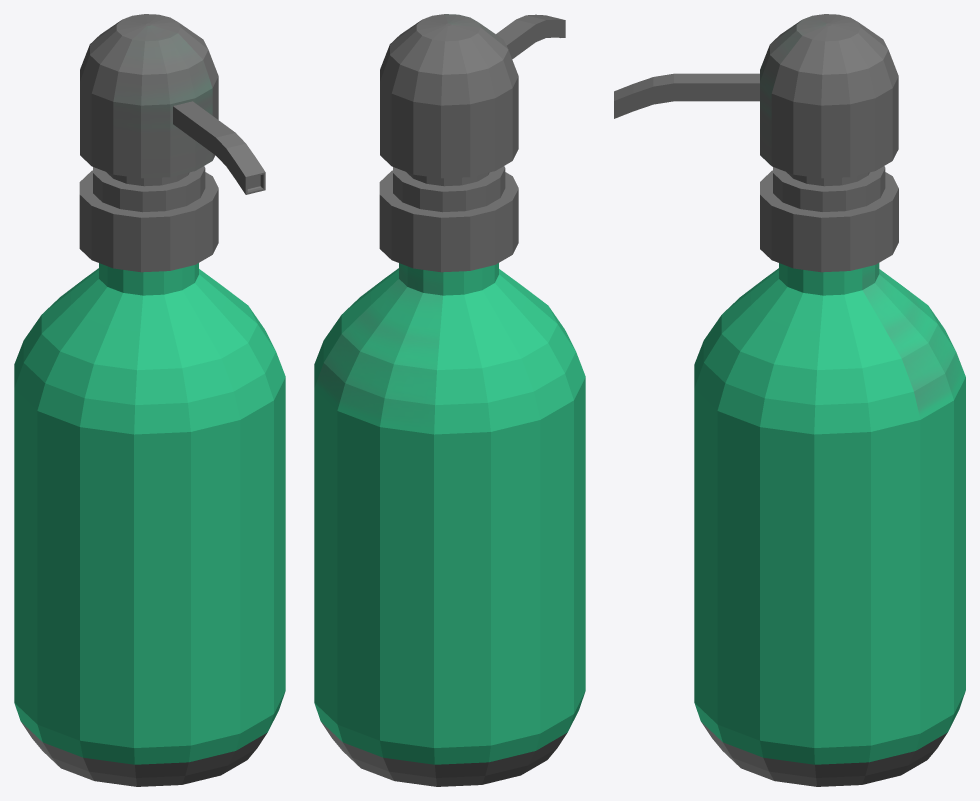
The model's file is Soap Bottle.glb.
3 views of the same model, side by side, from view 1: azimuth 30°, elevation 25°; view 2: azimuth 150°, elevation 25°; view 3: azimuth 270°, elevation 25° (orthographic).
Visible parts, largest first — view 1: Cylinder; view 2: Cylinder; view 3: Cylinder.
Part boxes in pixels (x1,y1,x2,y2): Cylinder: (14, 14, 285, 786); Cylinder: (314, 14, 585, 786); Cylinder: (614, 14, 965, 786).
Size of the model in its own units: 2.8 by 8.12 by 3.6.
Materials: 1 (1 with a texture image).
